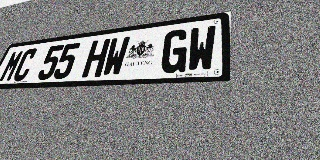5: (52, 42, 81, 79), (36, 45, 65, 80)
C: (11, 48, 39, 82)
G: (159, 28, 189, 74)
H: (81, 39, 111, 78)
M: (0, 50, 25, 82)
W: (186, 25, 216, 72), (101, 36, 131, 77)
